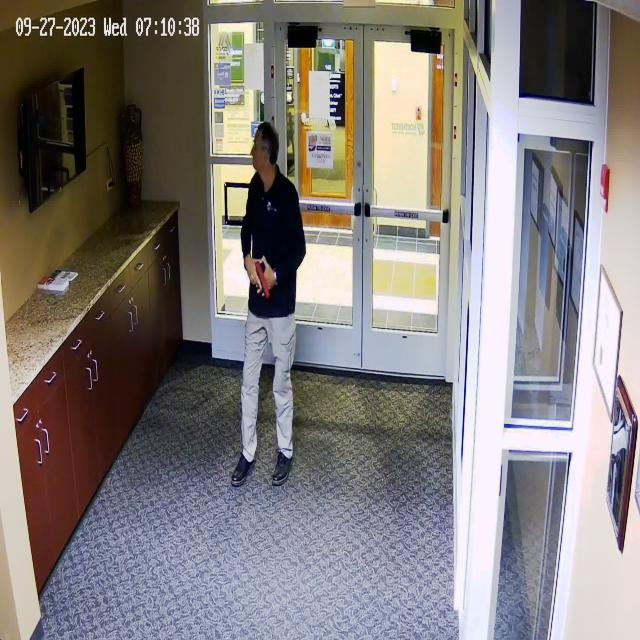Gun: (244, 244, 278, 304)
